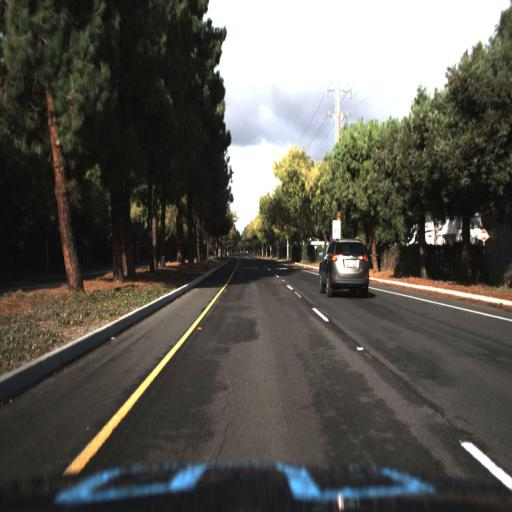car: (318, 237, 371, 298)
